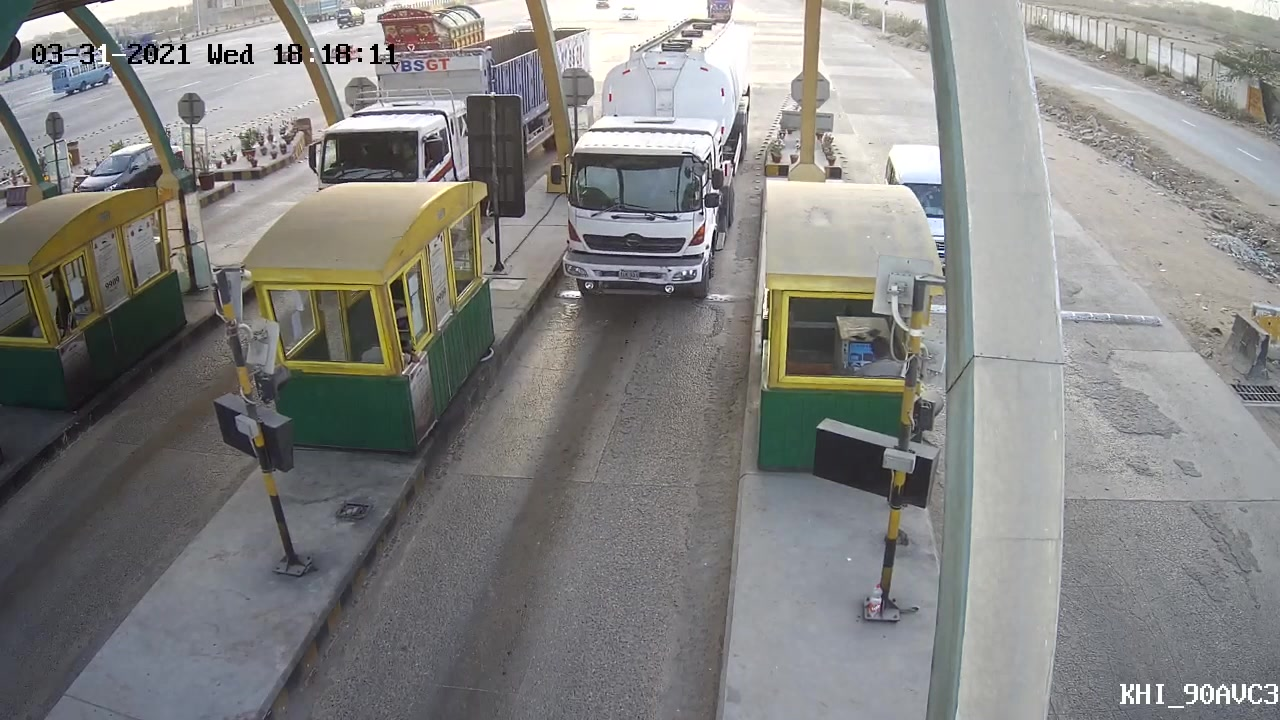F6: (550, 6, 760, 302)
